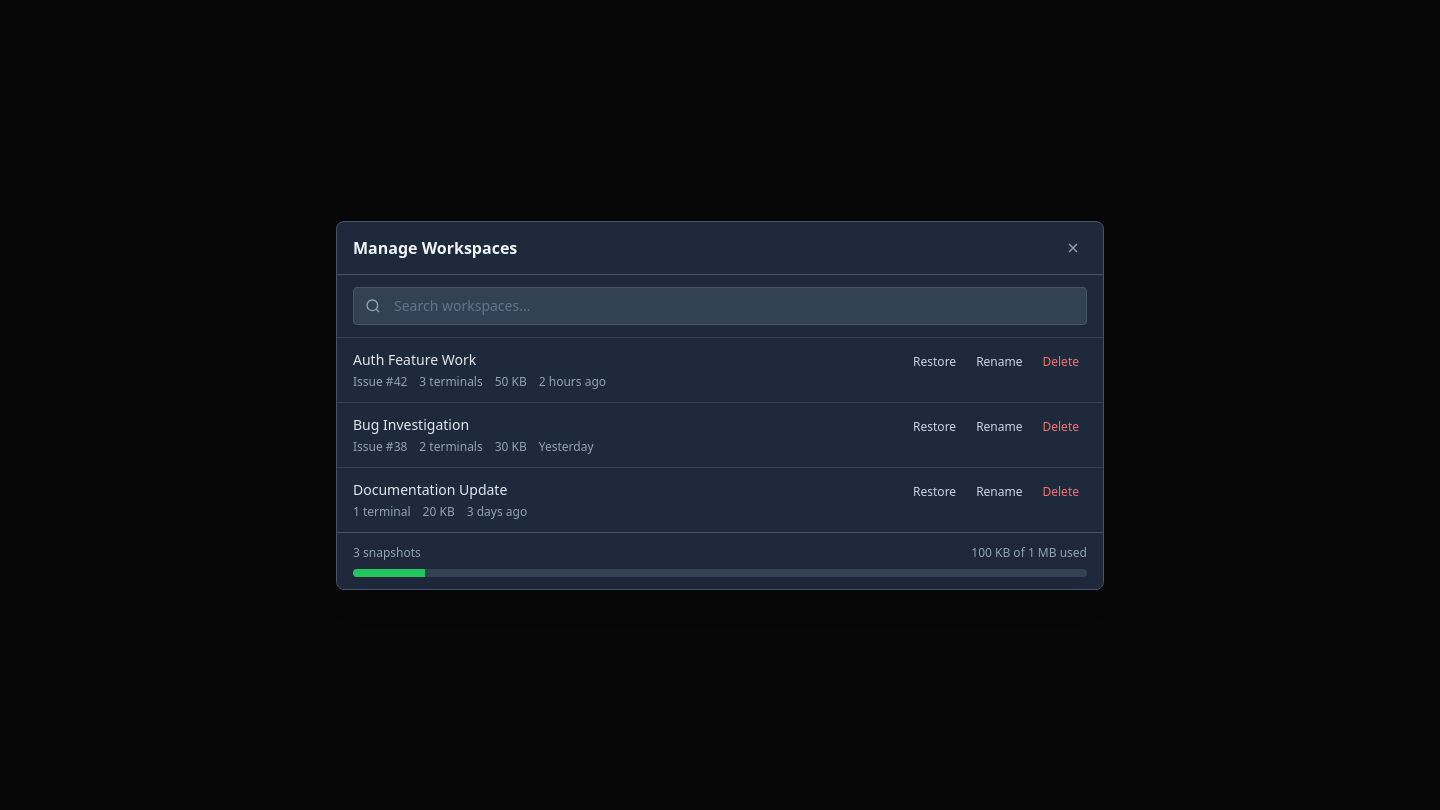
it: WorkspaceManager › Actions - Delete › should show confirmation dialog when delete is clicked
The width and height of the screenshot is (1440, 810).
Click the button "Delete" in the row of "Auth Feature Work" at (1061, 362), box [1034,350,1087,374]
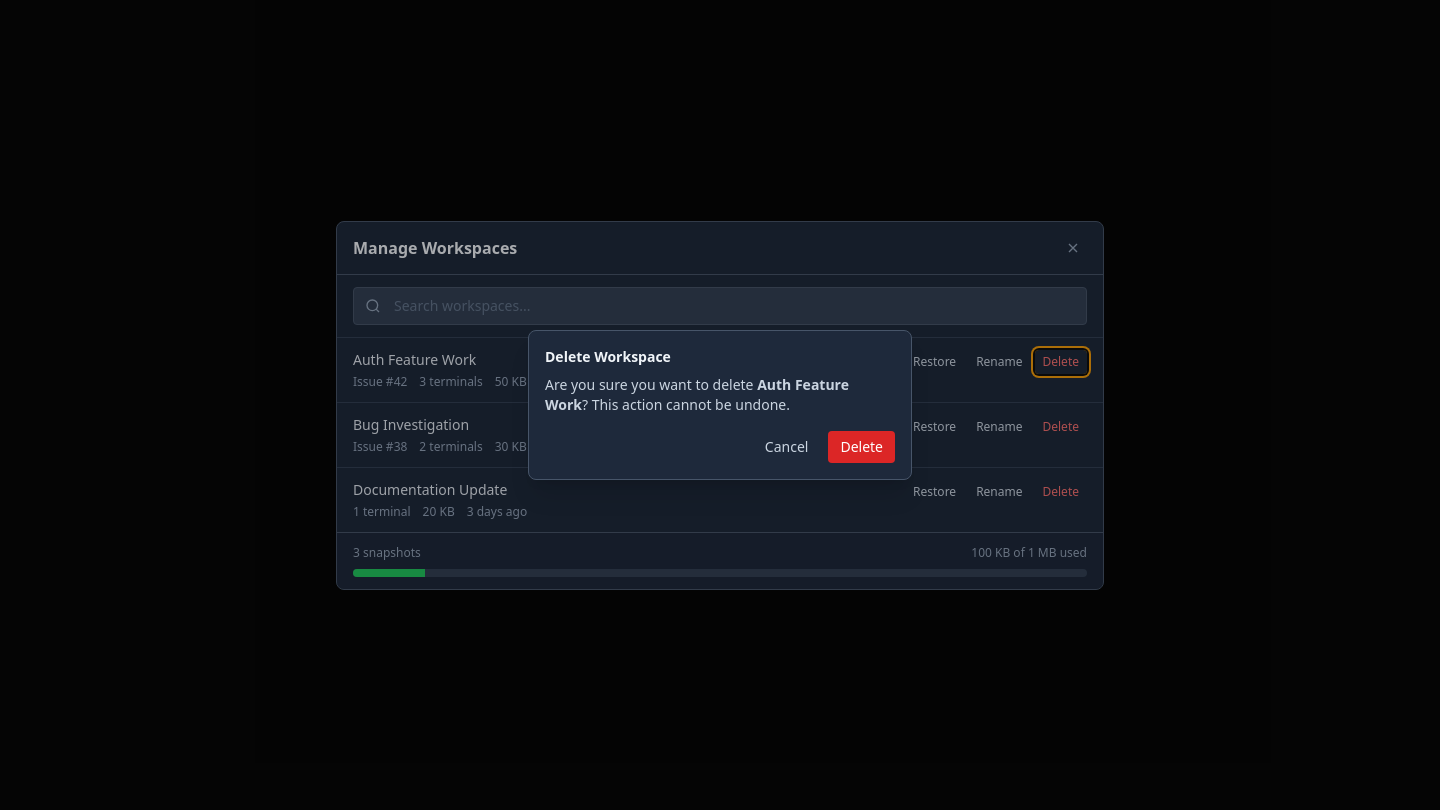
Check: the text "Are you sure" is shown, box [545,375,757,394]
Check: the heading "Delete Workspace" is shown, box [545,347,671,366]
